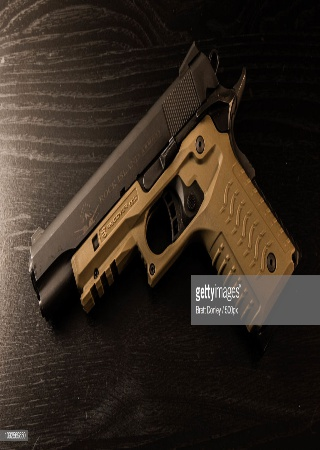handgun: (25, 34, 304, 330)
